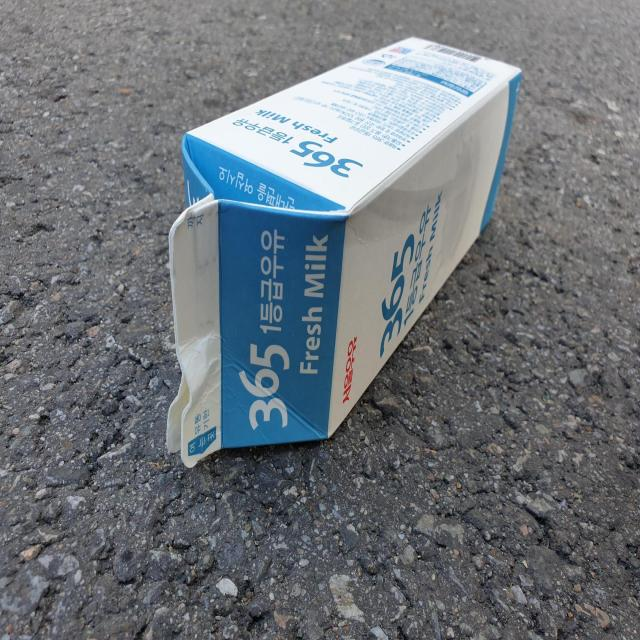paperpack: (166, 36, 522, 467)
